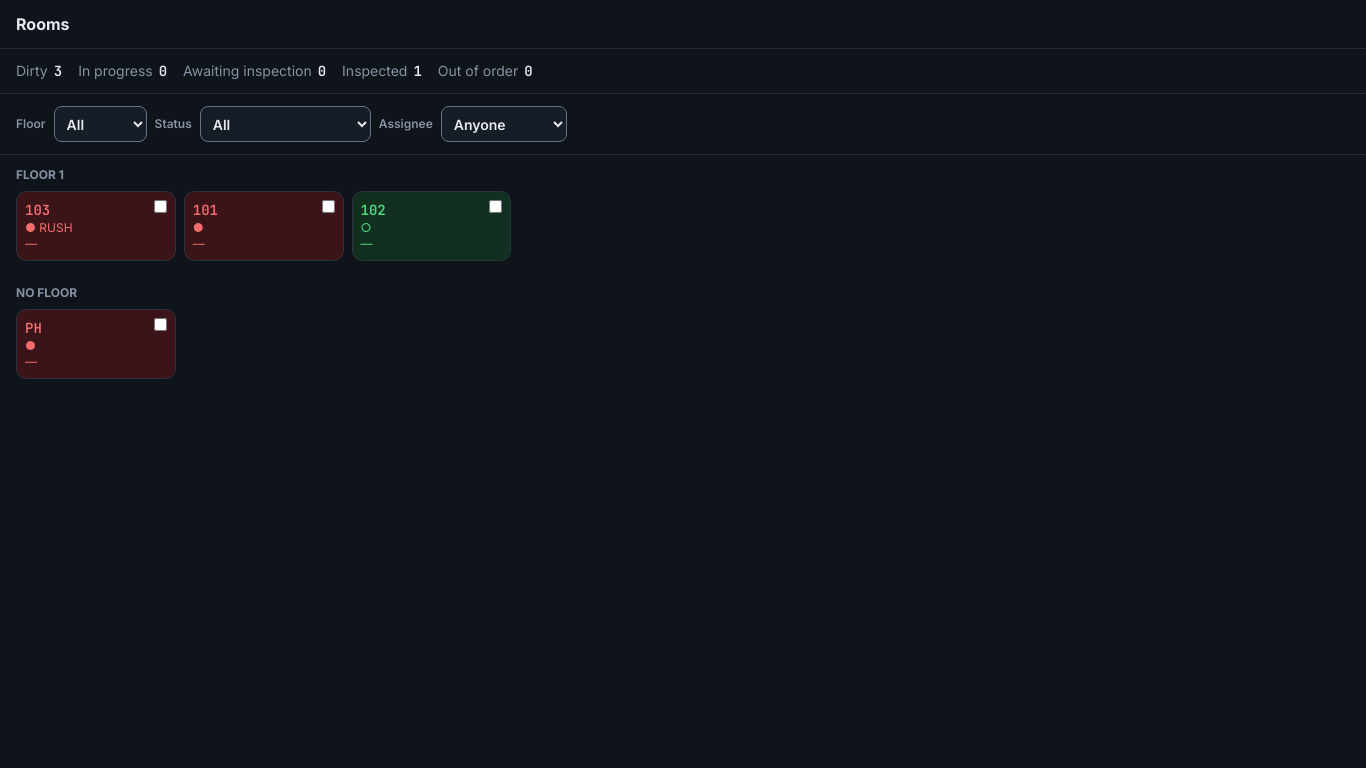
Test case: RoomBoardPage › shows the server error inline in the drawer when a transition fails
Click the button named "Room 101, Dirty": (264, 226) [193,200,335,252]
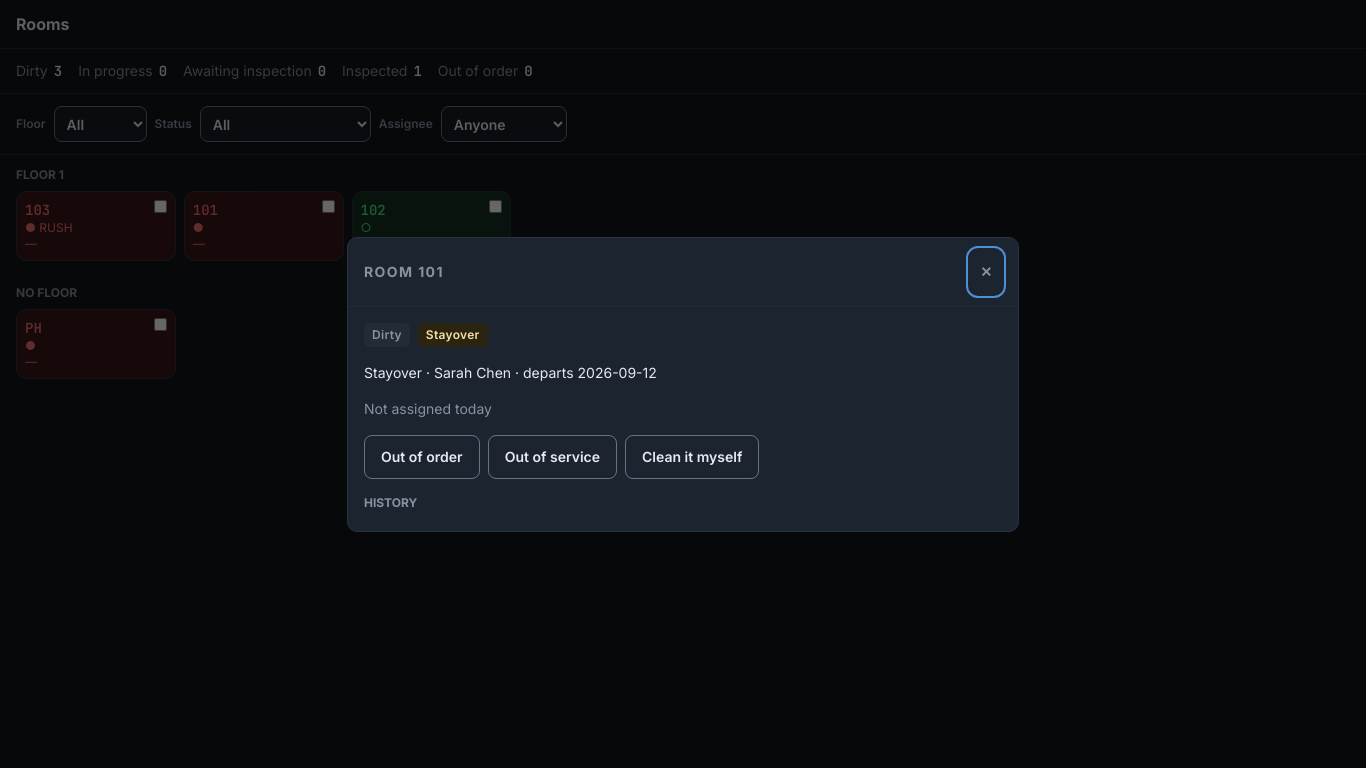
Click the button "Out of order": (422, 456) [364,434,480,478]
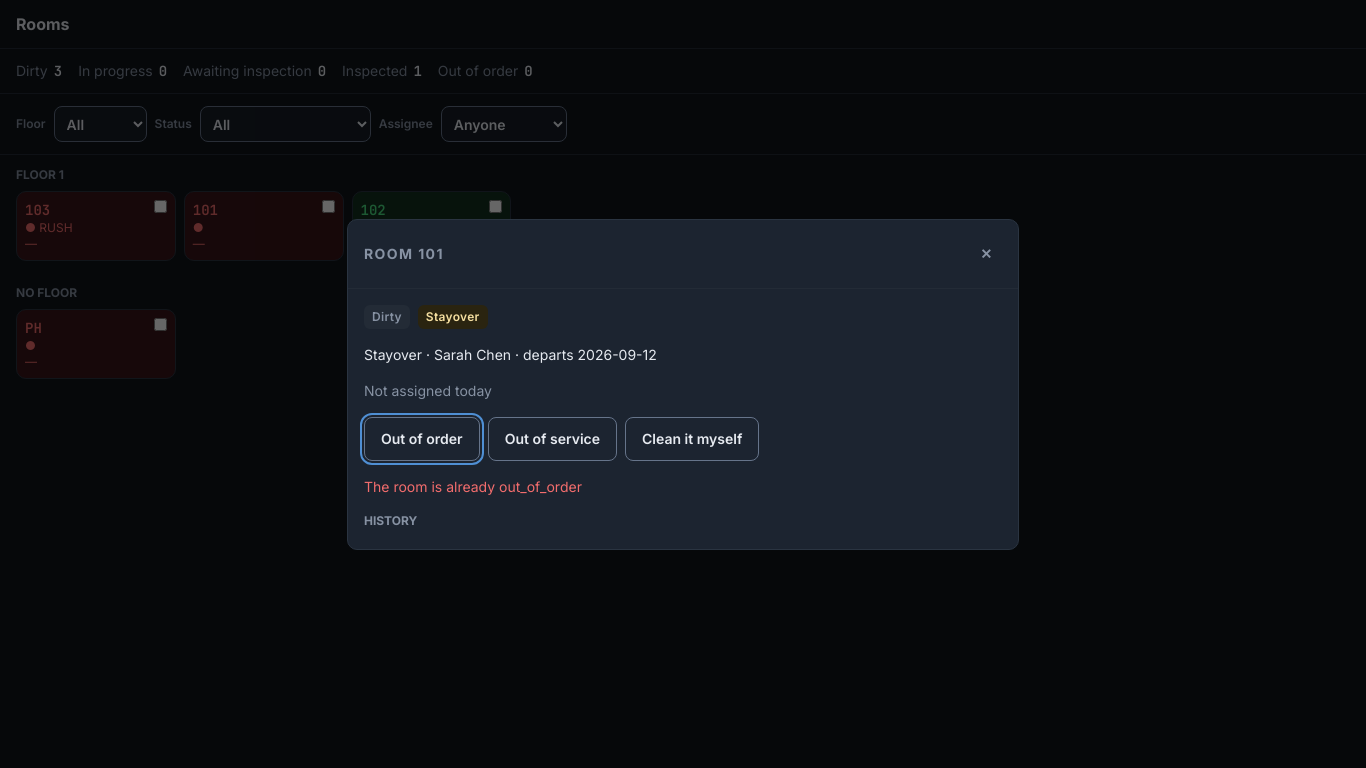
Check: the message reads "The room is already out_of_order", box [364,478,582,494]
